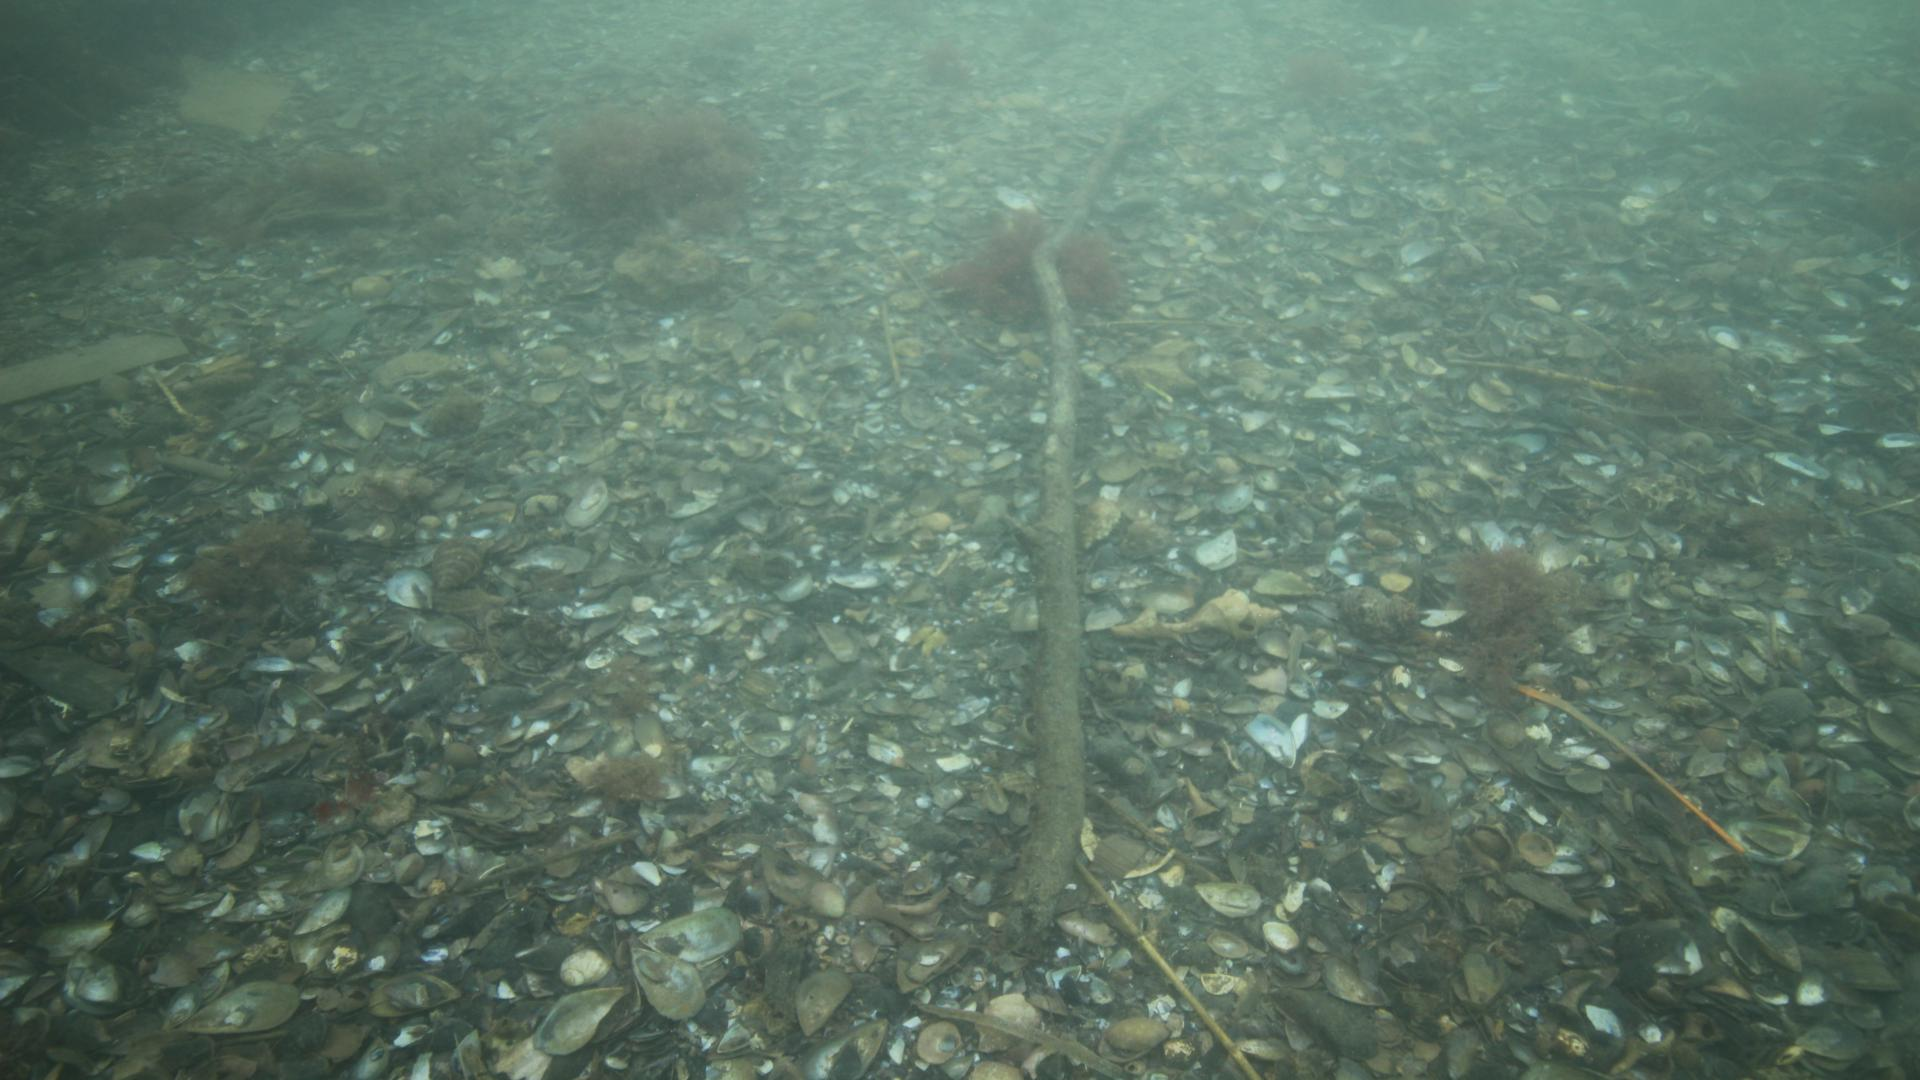wood: (1007, 123, 1121, 938)
